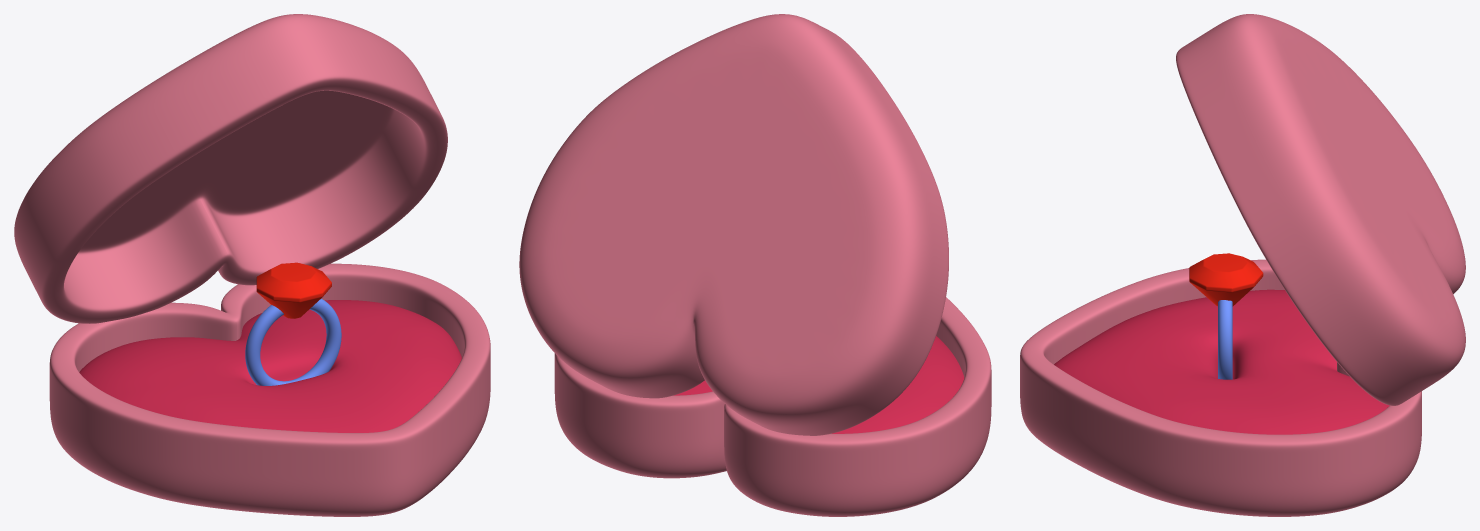
Rendered from Ring Box.fbx.
The picture shows the model from 3 angles, left to right: view 1: azimuth 30°, elevation 25°; view 2: azimuth 150°, elevation 25°; view 3: azimuth 270°, elevation 25°; orthographic projection. The views are drawn at different scales.
Visible parts, largest first — view 1: Box_LOD0, BoxInner_LOD0, Diamond_LOD0, Ring_LOD0; view 2: Box_LOD0, BoxInner_LOD0; view 3: Box_LOD0, BoxInner_LOD0, Diamond_LOD0, Ring_LOD0.
Part boxes in pixels (box(x1,y1,x2,y2)): Box_LOD0: box(14, 14, 490, 516); BoxInner_LOD0: box(79, 300, 461, 432); Diamond_LOD0: box(256, 262, 331, 318); Ring_LOD0: box(245, 298, 341, 385); Box_LOD0: box(519, 14, 991, 516); BoxInner_LOD0: box(674, 336, 964, 433); Box_LOD0: box(1020, 14, 1465, 516); BoxInner_LOD0: box(1054, 289, 1389, 434); Diamond_LOD0: box(1189, 253, 1263, 306); Ring_LOD0: box(1218, 300, 1232, 379).
Size of what is drawn, in the model's own units: 104 by 109 by 105.
